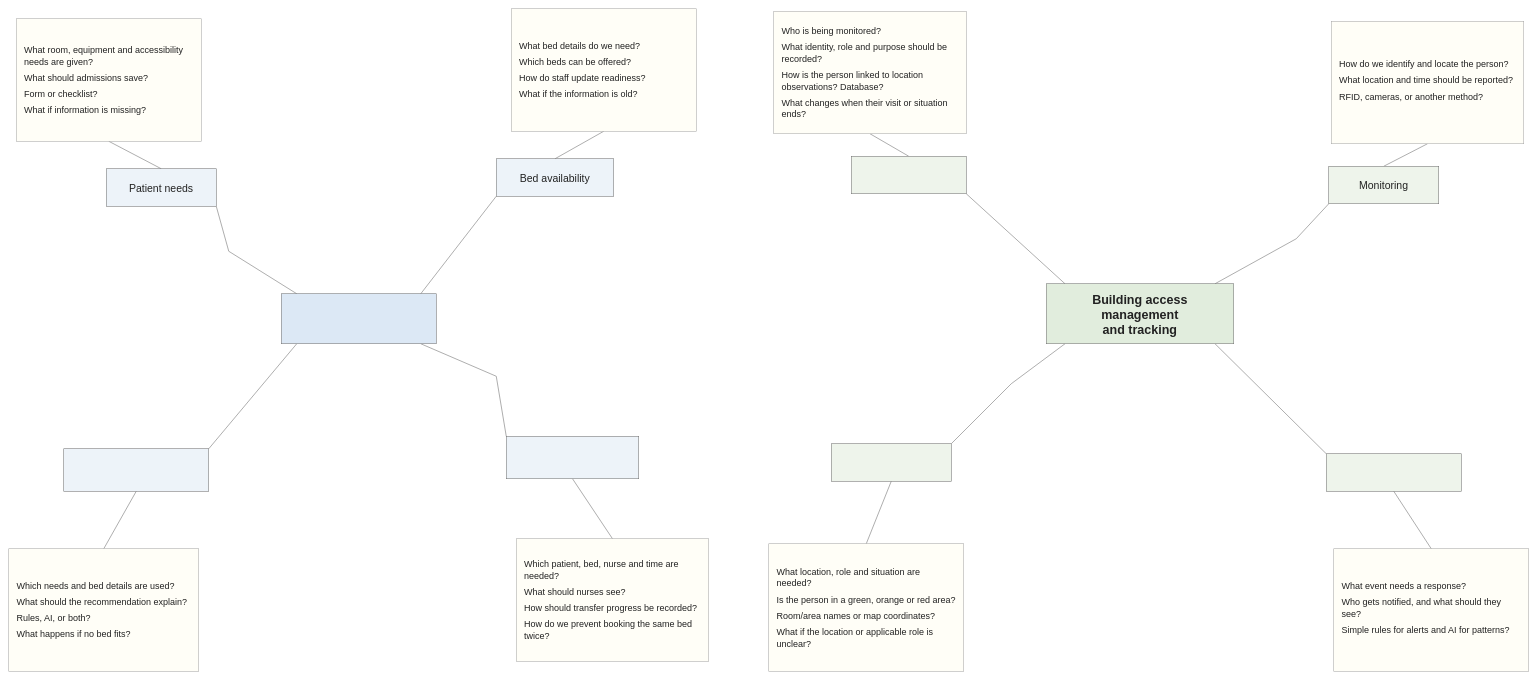
The diagram is 1538 pixels wide and 680 high, and some of its shapes have lost their labels. The shapes that lost their labels are listed below. From the top down, each one's centre as x and y in pixels, then its label:
At (x=908, y=175): "Registration".
At (x=358, y=318): "Bed/room assignment".
At (x=136, y=469): "Bed recommendation and selection".
At (x=572, y=457): "Reservation and transfer".
At (x=891, y=462): "Zone detection".
At (x=1393, y=472): "Response and review".
